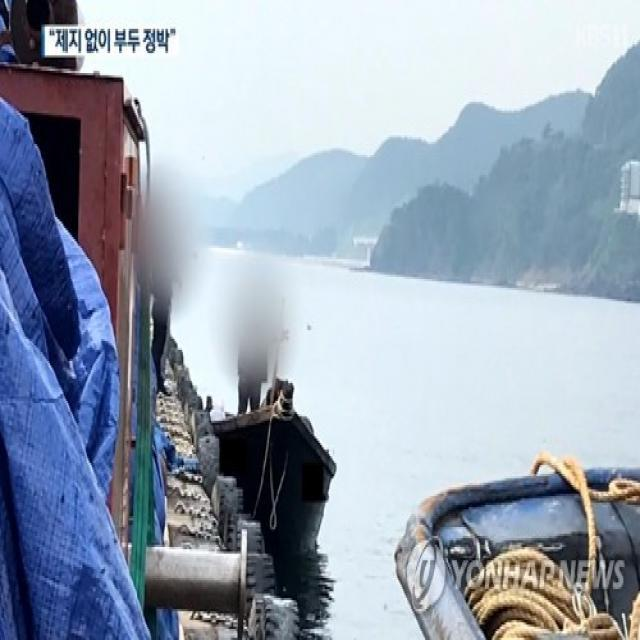Ship: (206, 371, 338, 557)
